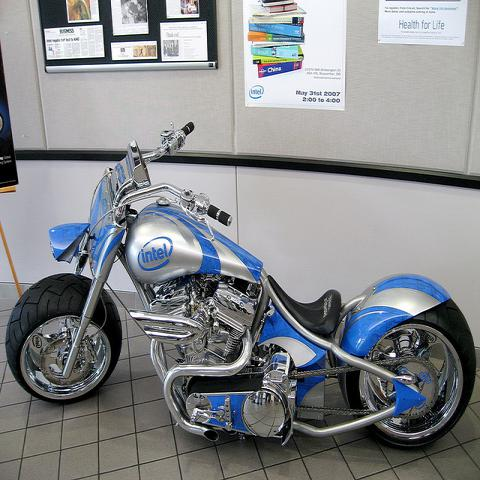motorcycle: (6, 118, 479, 454)
